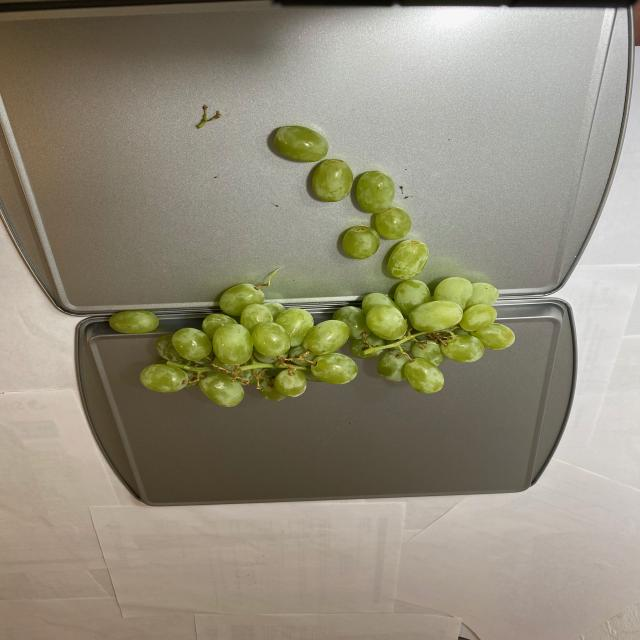grapes: (105, 127, 516, 410)
